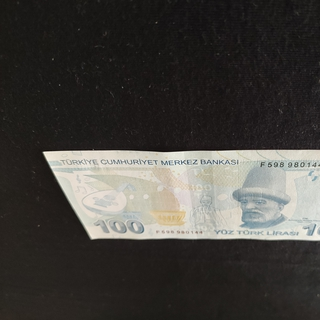100TLBack: (42, 149, 320, 242)
